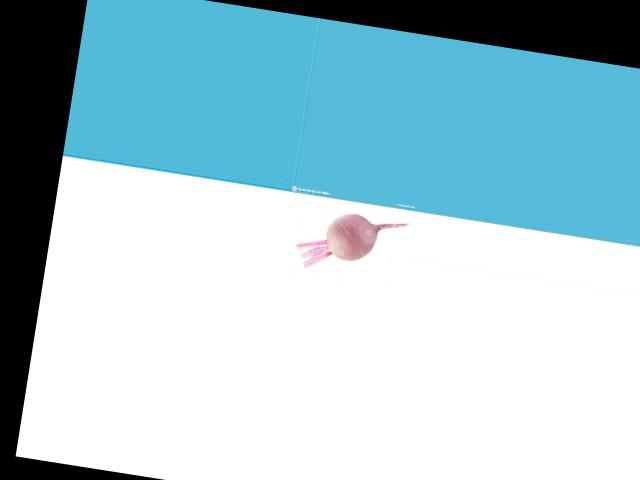beet: (294, 206, 408, 281)
